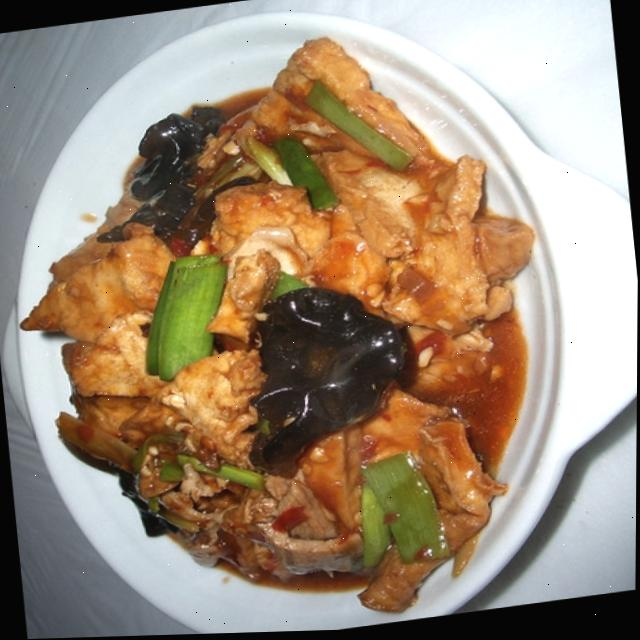豆腐料理: (0, 1, 586, 640)
